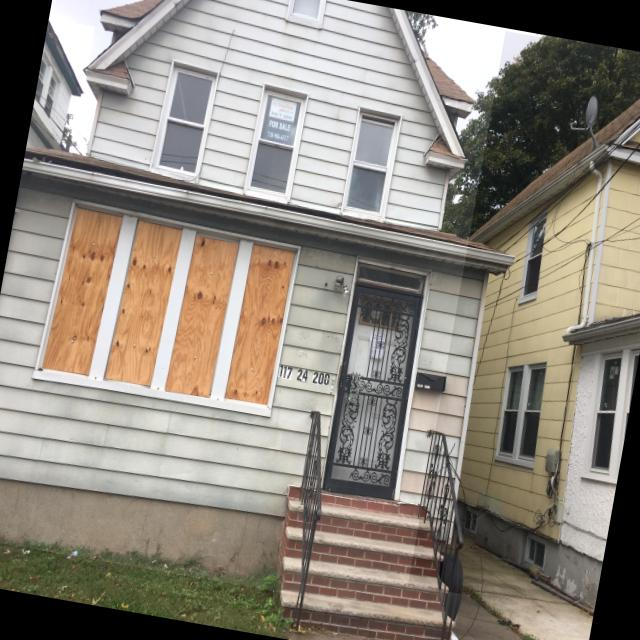House: (0, 0, 559, 623), (407, 31, 640, 617), (26, 18, 94, 156)
